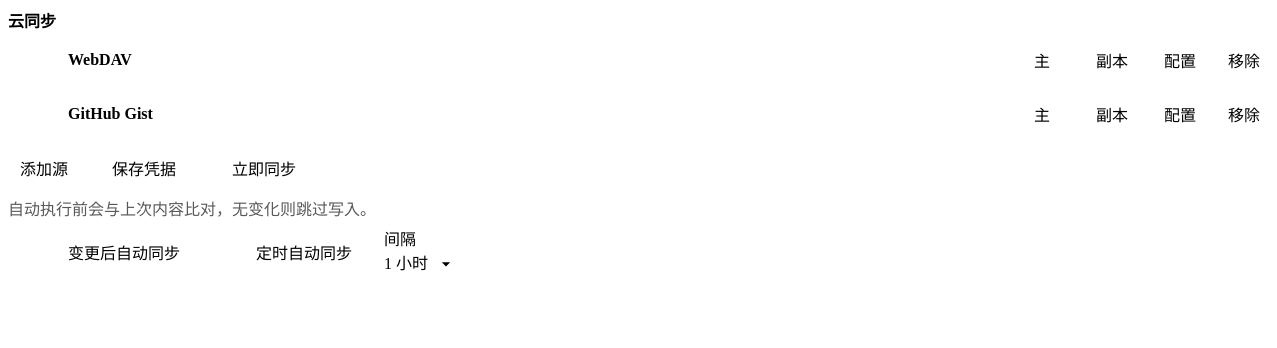
Test case: CloudCard（多源） › ⑪单源错误状态行不影响其余源结果展示
Click the button with class "cloud-sync" at (264, 168), box [208,148,320,188]
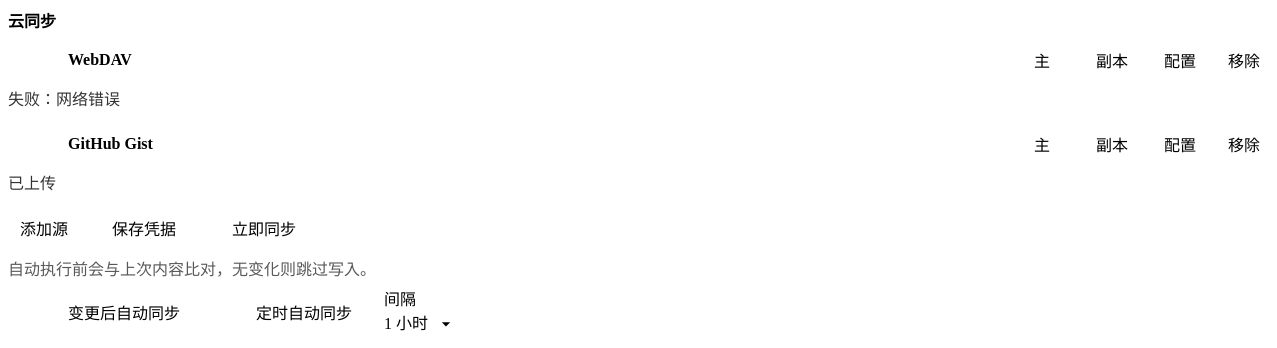
Now the elements with class "target-status" read "失败：网络错误", "已上传", in this order, box [8,91,120,108]; [8,175,56,192]
